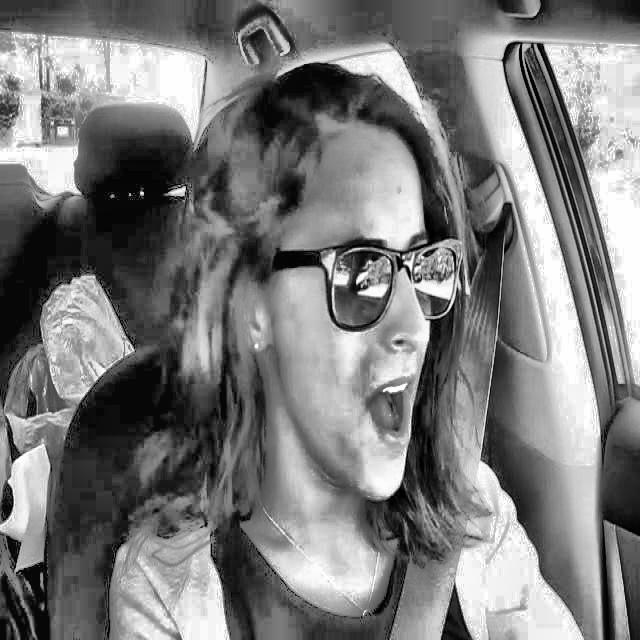open_mouth: (351, 354, 430, 461)
